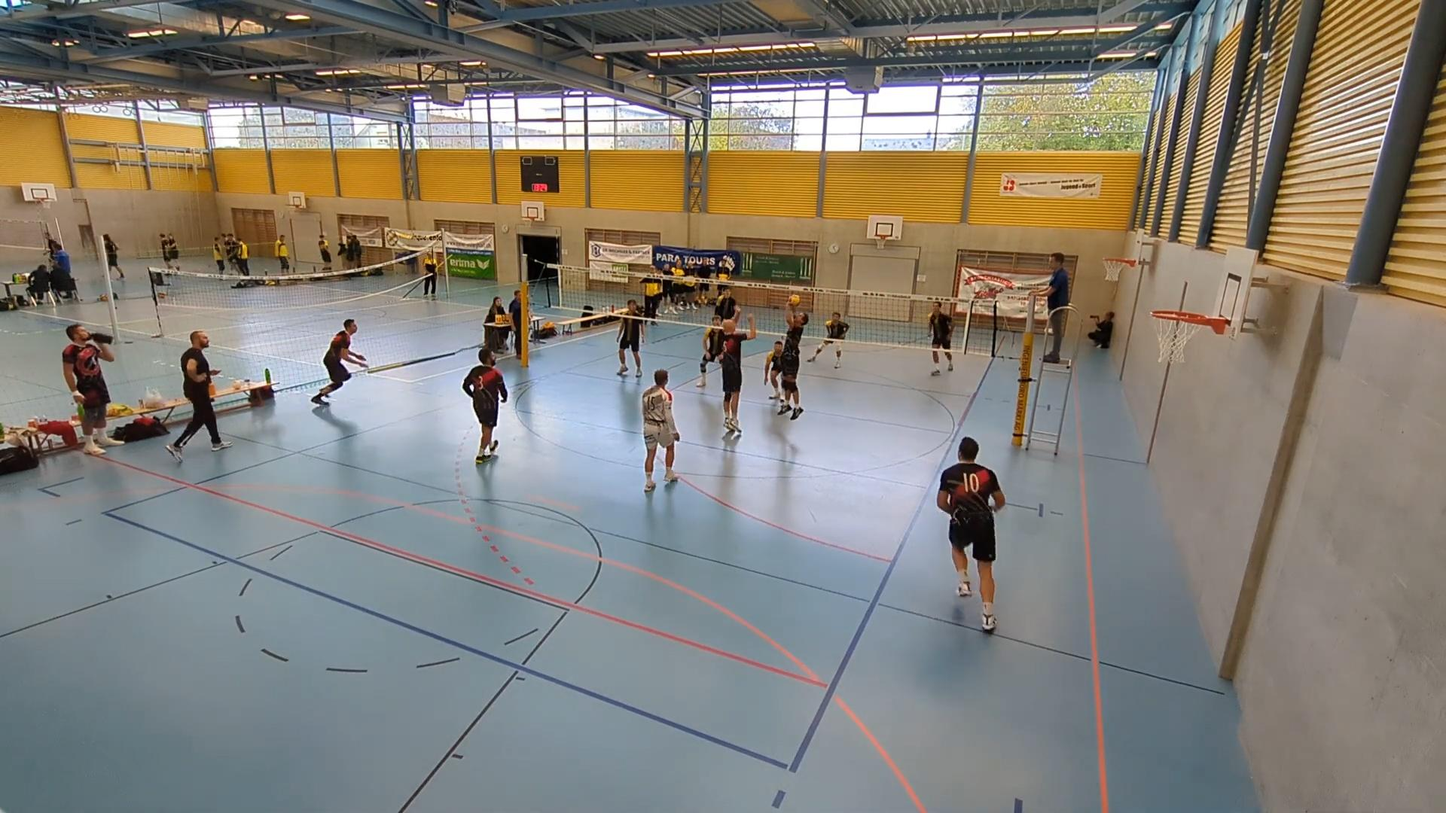alzata: (774, 302, 813, 422)
